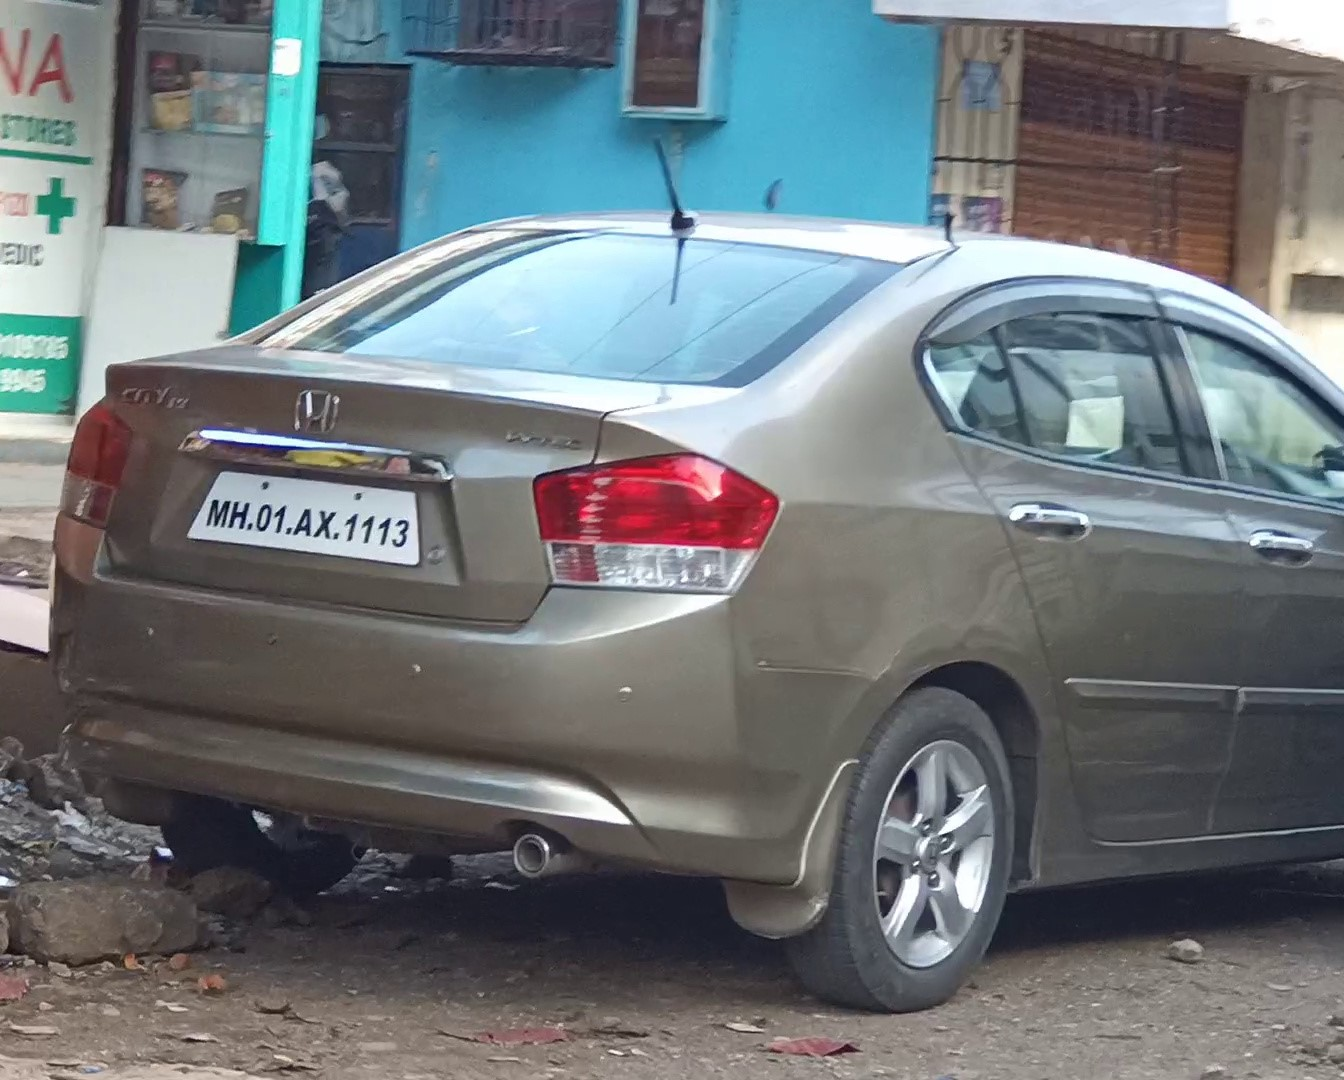MH01AX1113: (186, 469, 420, 566)
